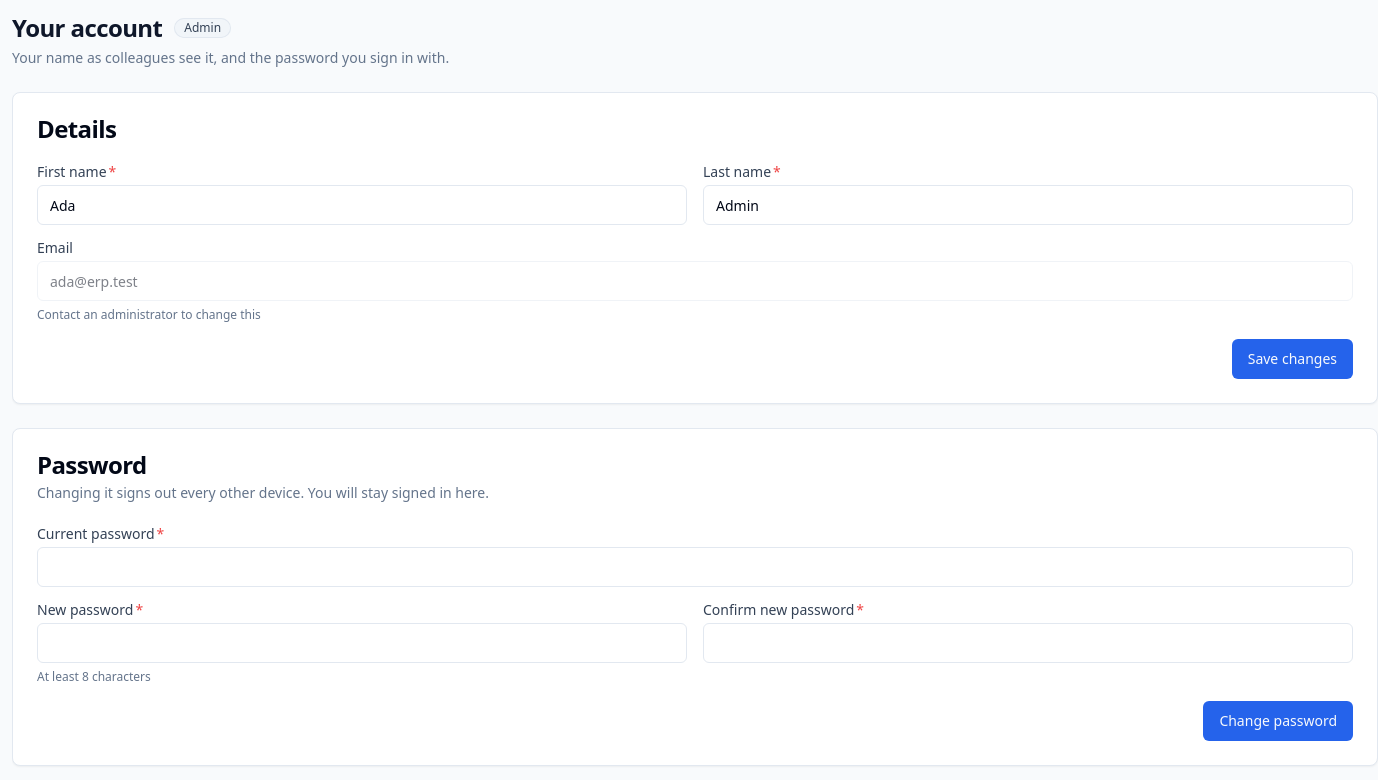
<ProfileSettings /> › refuses a new password that matches the current one
This screenshot has width=1378, height=780.
Type "supersecret1" into the password field labelled "Current password*" at (695, 567), box [37,547,1353,587]
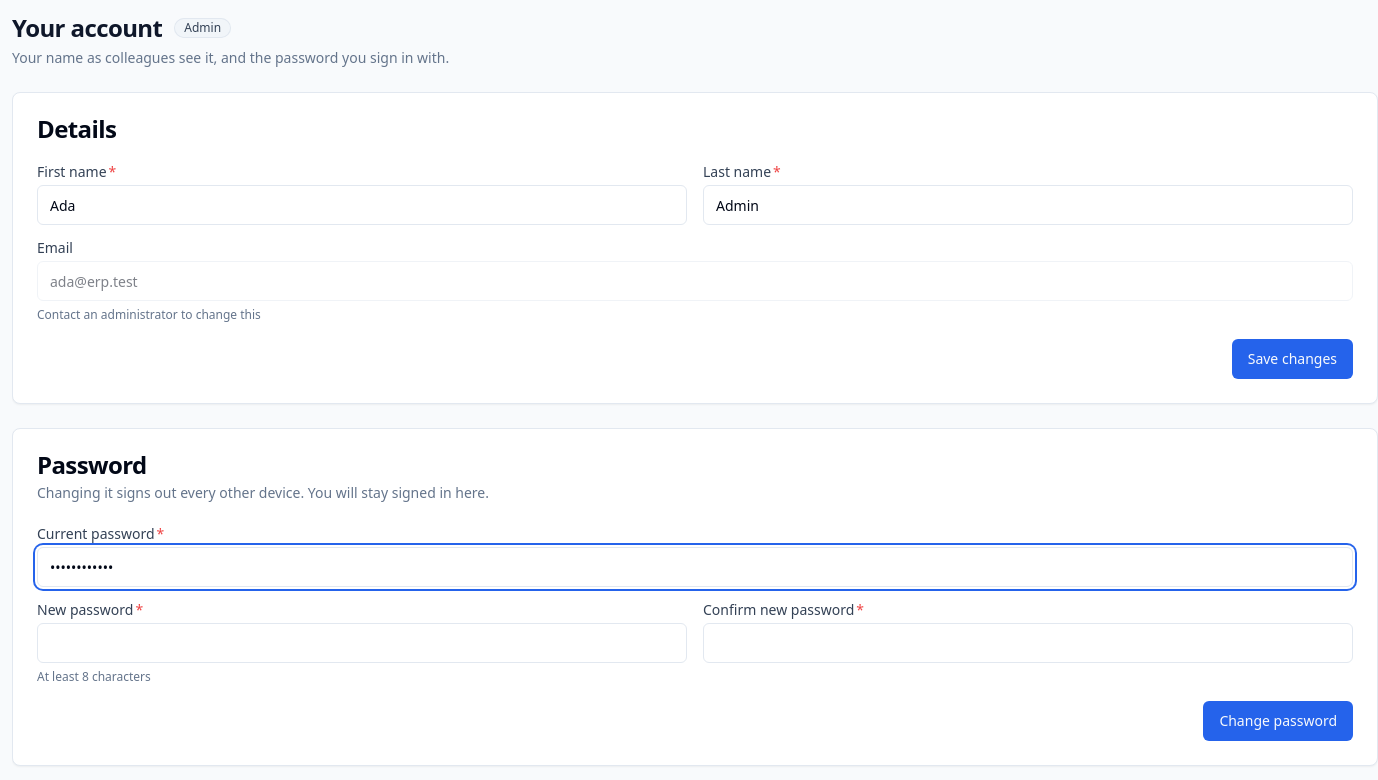
Type "supersecret1" into the password field labelled "New password*" at (362, 643), box [37,623,687,663]
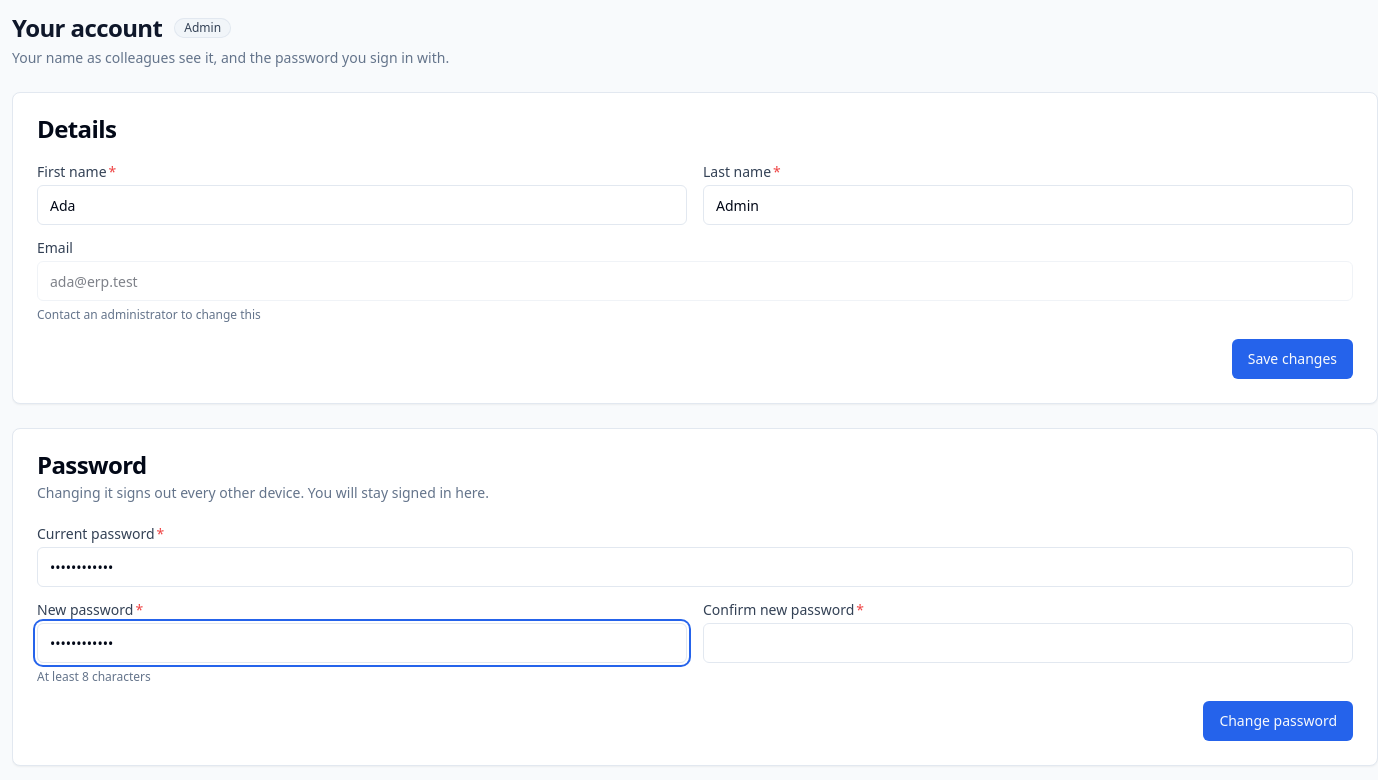
Type "supersecret1" into the password field labelled "Confirm new password*" at (1028, 643), box [703,623,1353,663]
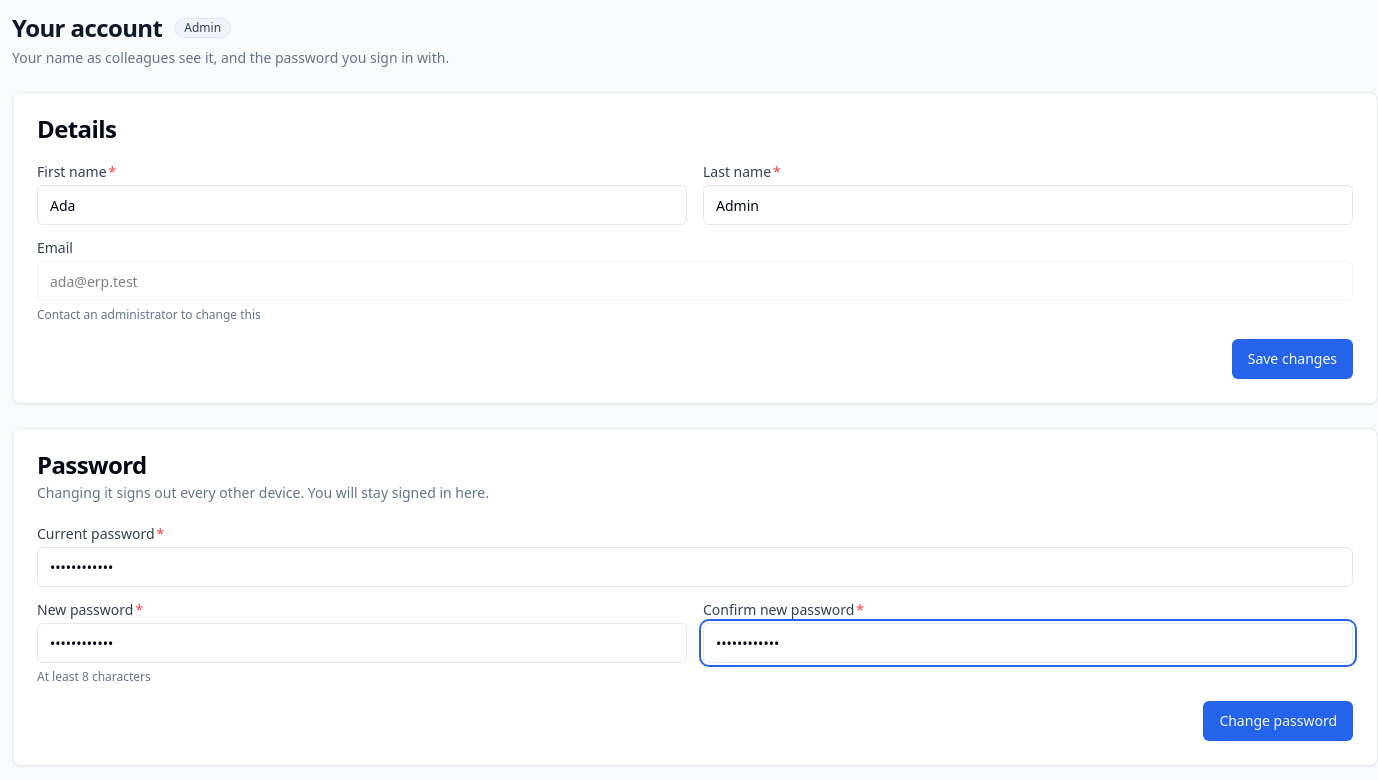
Click the button "Change password" at (1278, 721), box [1203,701,1353,741]
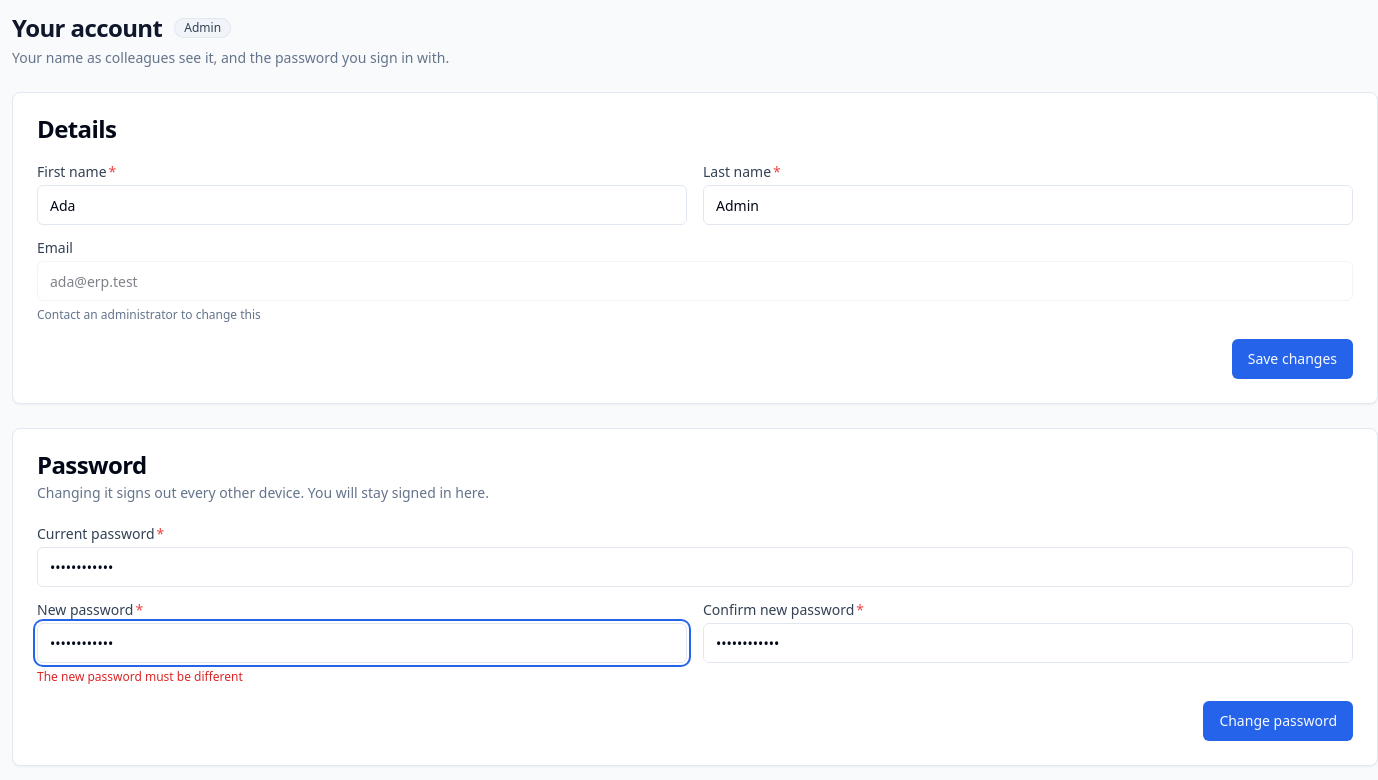
Check: the text "The new password must be different" is shown, box [37,668,243,685]
